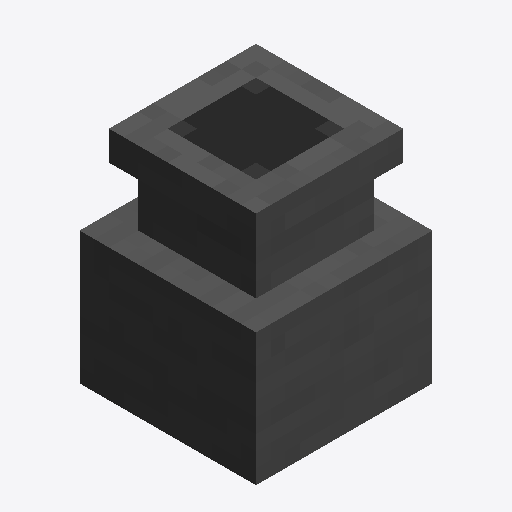
Isometric view (azimuth 45°, elevation 35.3°) of a Minecraft model made of 3 cuboids, textured from the same repository.
Parts seen in each view (by area): element 1, element 3, element 2.
Boxes of the visible parts, x1,y1,x2,y2 form: element 1: [80, 197, 431, 484]; element 3: [109, 44, 402, 246]; element 2: [138, 180, 373, 297].
Bounding box in the file's own units: 12 × 15 × 12.